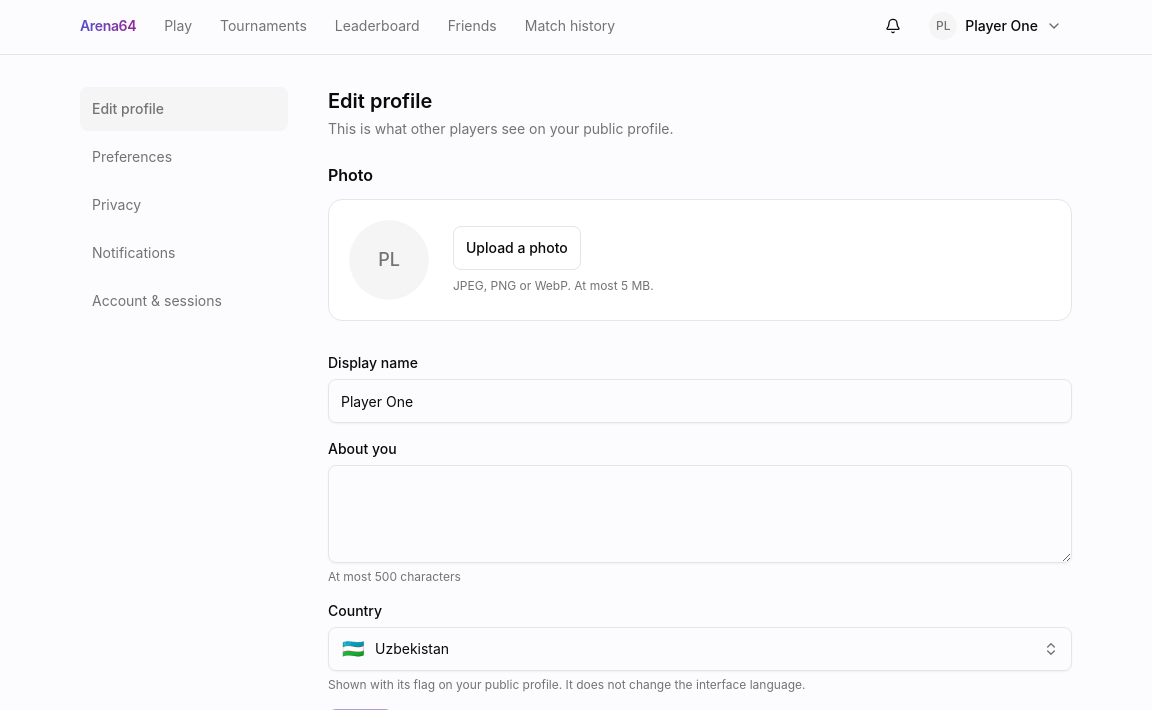
Test: choosing a country › keeps the choice when the save fails, so it can be retried
Step 1. Click the button named "country uzbekistan" → (412, 648), box [328,627,1072,671]
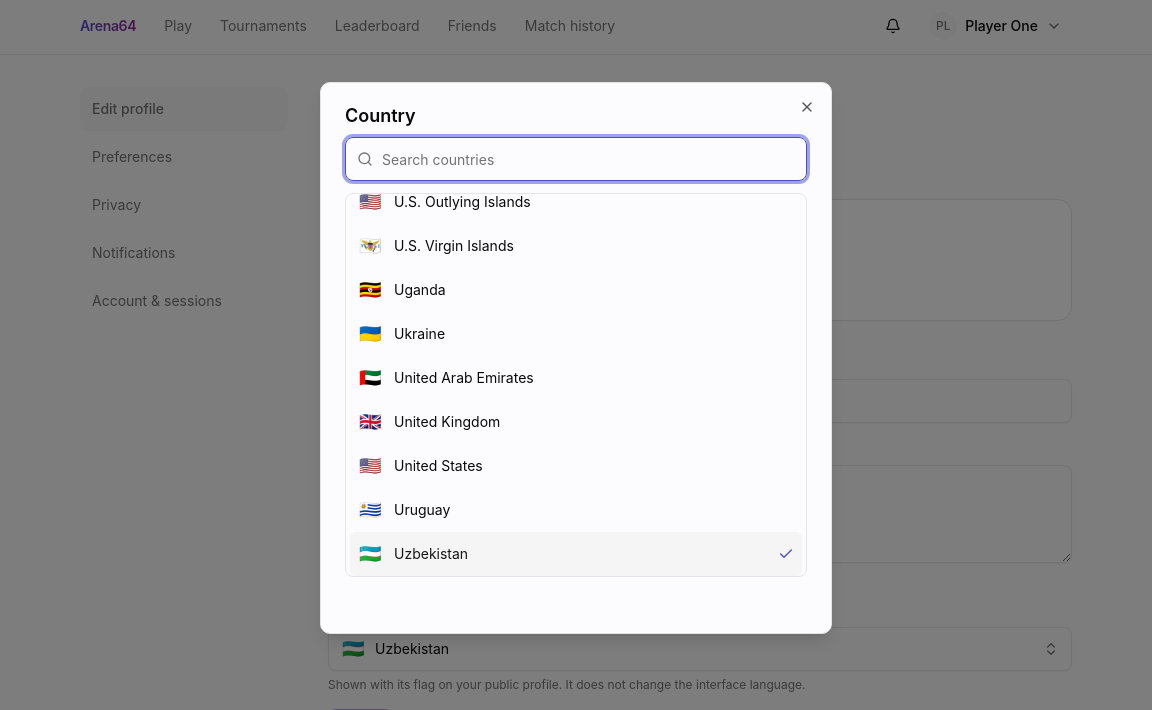
Step 2. Type "kaz" into the dropdown labelled "Search countries" → (576, 159), box [345,137,807,181]
Then press Enter
(page scrolled)
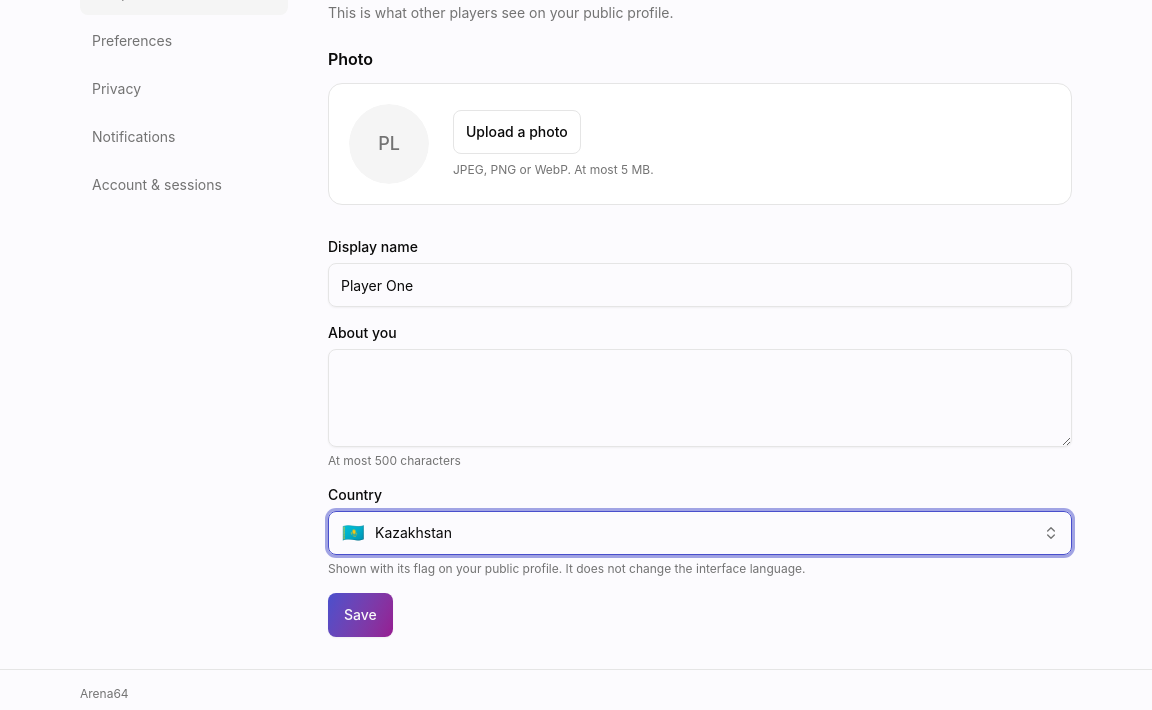
Step 3. Click the button "Save" → (360, 615), box [328,593,393,637]
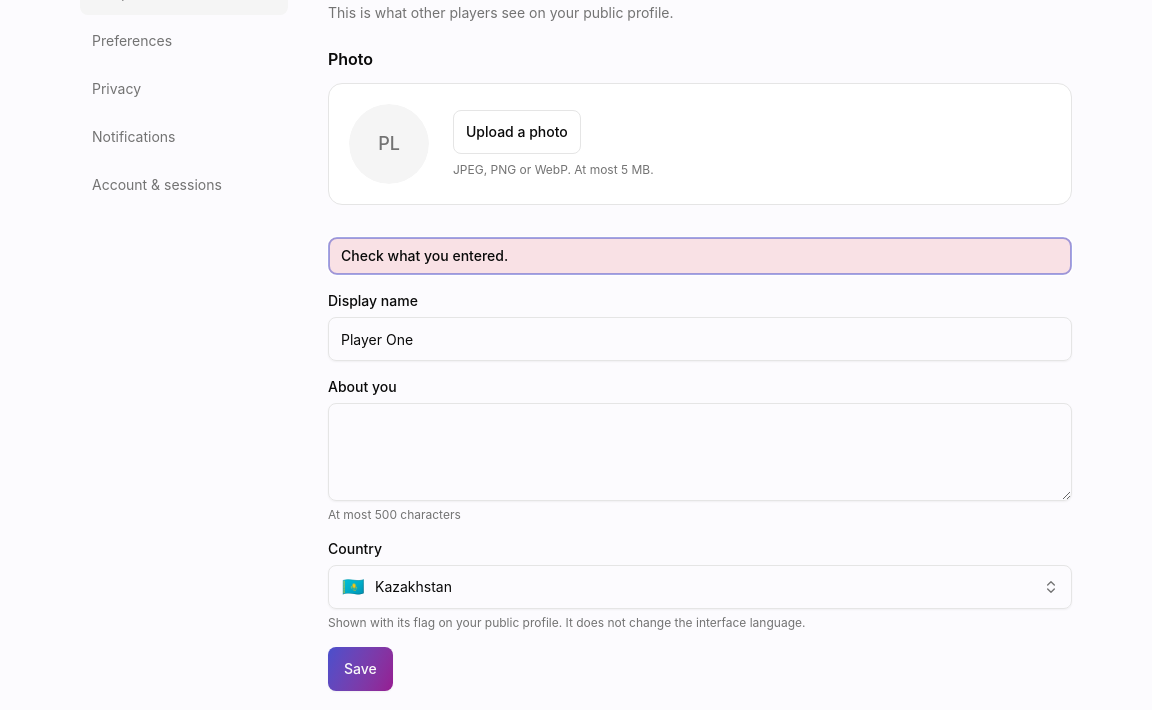
Expected: the button named "country kazakhstan" is shown, [328,565,1072,609]
Expected: the button "Save" is enabled, [328,647,393,691]
Expected: the text "Check what you entered." is shown, [328,237,1072,275]
